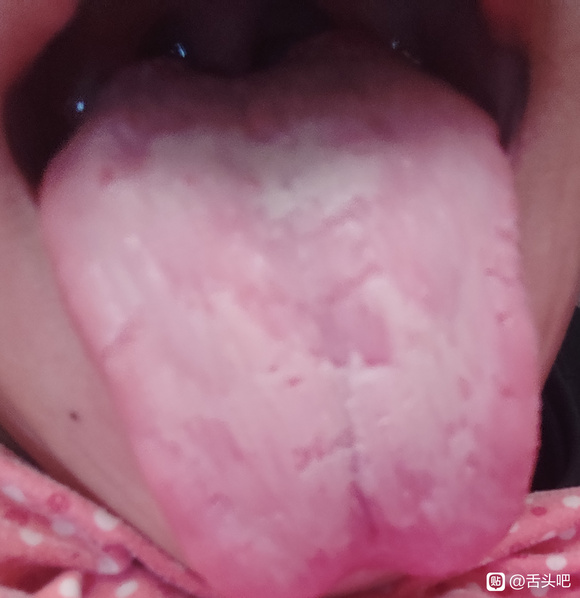baitaishe: (40, 28, 542, 598)
botaishe: (299, 285, 405, 384)
hongshe: (39, 28, 541, 598)
liewenshe: (477, 215, 526, 336)
shenquao: (115, 28, 359, 105)
